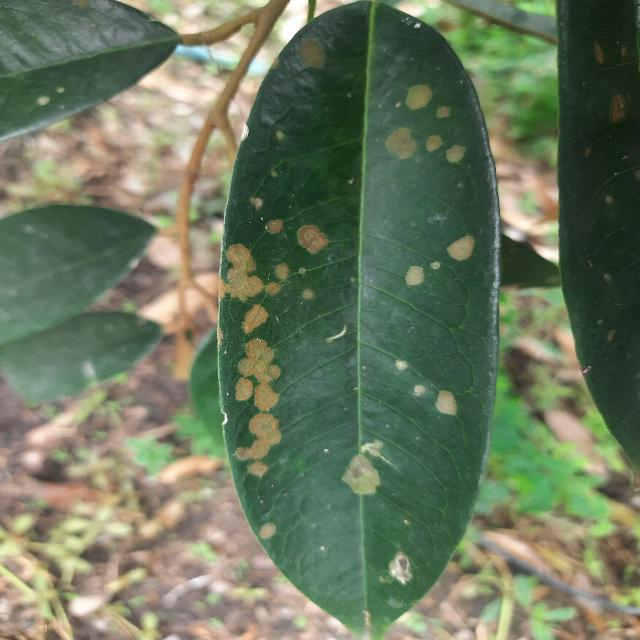Algal Leaf Spot: (209, 0, 510, 639)
